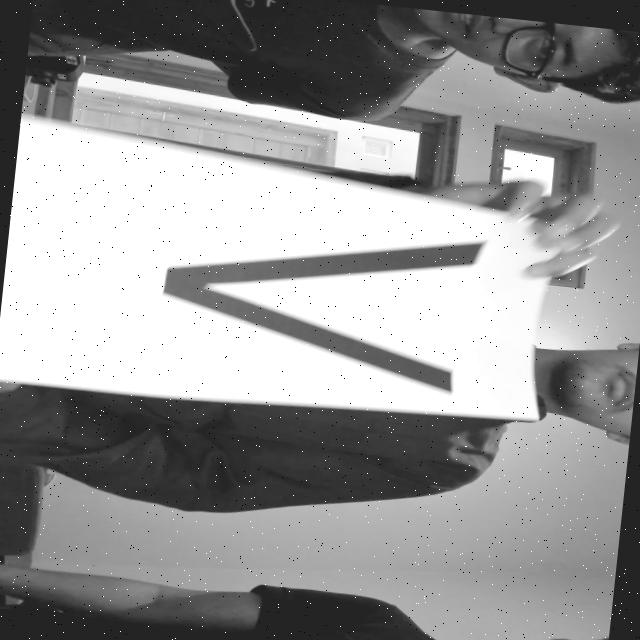v: (137, 195, 507, 405)
